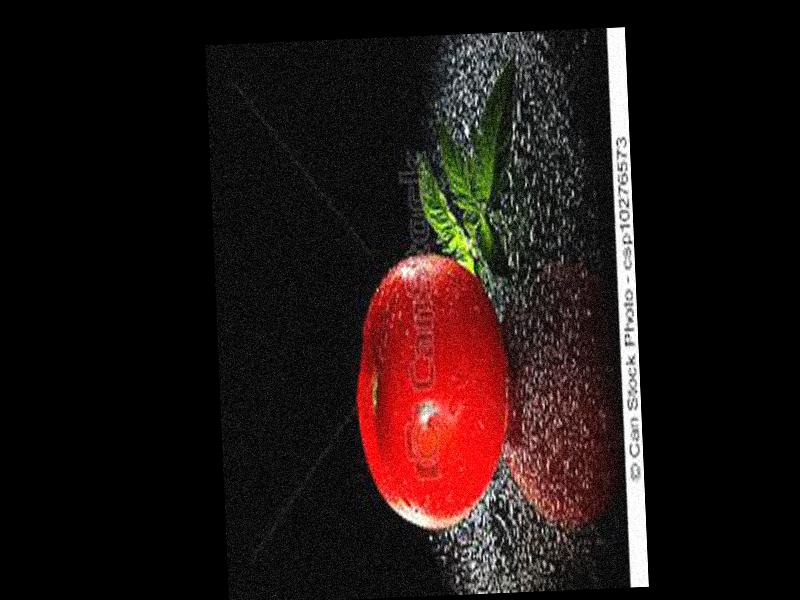Tomato: (350, 251, 513, 531)
